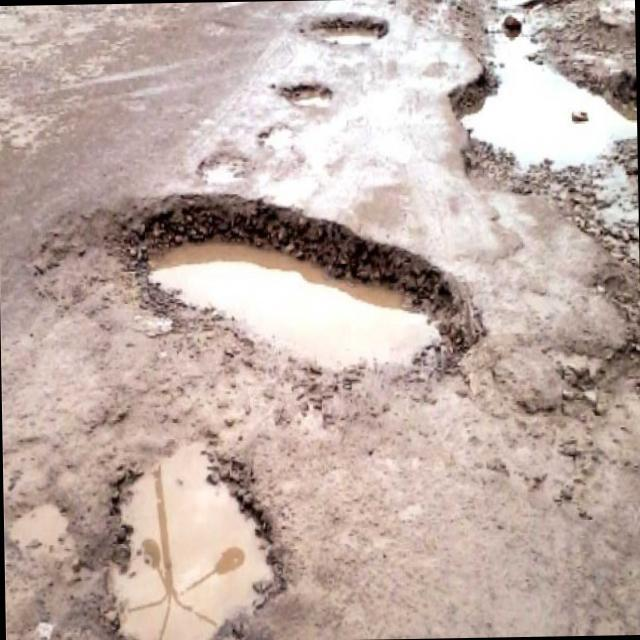Pothole: (118, 188, 485, 377), (103, 434, 282, 640), (452, 46, 638, 166), (310, 10, 388, 46), (281, 80, 334, 110), (197, 154, 245, 182), (260, 122, 294, 150)
